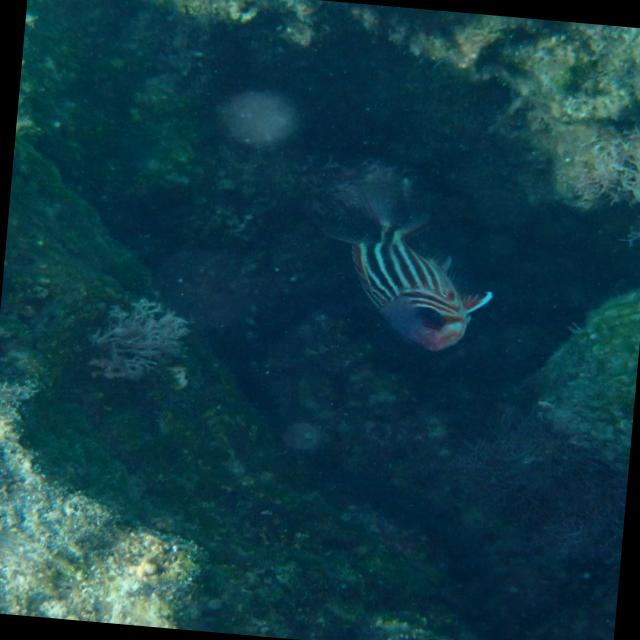Asker Baligi: (292, 164, 526, 374)
